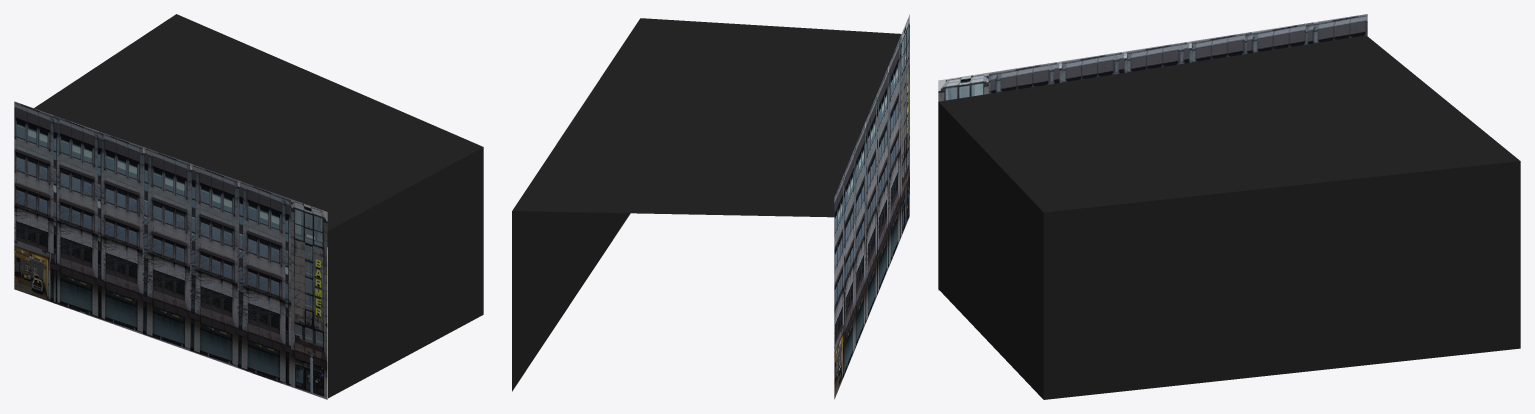
Rendered from GSP_corner.FBX.
3 renders of one model, left to right at view 1: azimuth 30°, elevation 25°; view 2: azimuth 150°, elevation 25°; view 3: azimuth 270°, elevation 25°, orthographic. The views are drawn at different scales.
Parts seen in each view (by area): view 1: GSP_corner_body, GSP_corner_front; view 2: GSP_corner_body, GSP_corner_front; view 3: GSP_corner_body, GSP_corner_front.
Part boxes in pixels (<box>): GSP_corner_body: <box>34,14,483,398</box>; GSP_corner_front: <box>14,101,327,399</box>; GSP_corner_body: <box>512,18,901,391</box>; GSP_corner_front: <box>834,14,909,399</box>; GSP_corner_body: <box>938,35,1520,399</box>; GSP_corner_front: <box>938,14,1367,290</box>.
Size of the model in its own units: 3208 by 1774 by 4451.
2 materials, 1 textured.
